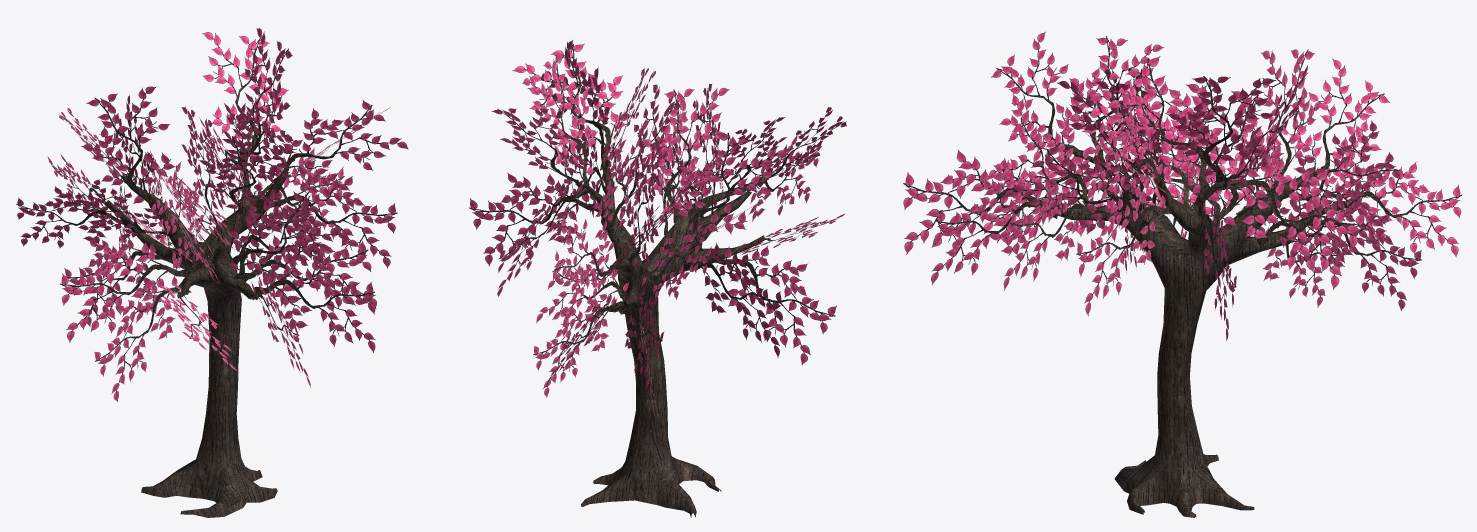
File: model_sakuraTree02.FBX
3 views of the same model, side by side, from view 1: azimuth 30°, elevation 25°; view 2: azimuth 150°, elevation 25°; view 3: azimuth 270°, elevation 25° (orthographic). The views are drawn at different scales.
Visible parts, largest first — view 1: Cylinder001, Plane027, Plane007, Plane014, Plane009, Plane015, Plane031, Plane019, Plane026, Plane013, Plane008, Plane021 (+16 smaller); view 2: Cylinder001, Plane028, Plane026, Plane029, Plane030, Plane018, Plane027, Plane017, Plane006, Plane019, Plane024, Plane001 (+17 smaller); view 3: Cylinder001, Plane010, Plane025, Plane012, Plane017, Plane020, Plane014, Plane002, Plane005, Plane031, Plane004, Plane015 (+18 smaller).
Part boxes in pixels (x1,y1,x2,y2): Cylinder001: (104,158,286,517); Plane027: (60,242,190,342); Plane007: (81,86,175,208); Plane014: (254,255,375,352); Plane009: (270,100,408,187); Plane015: (226,191,350,280); Plane031: (268,174,397,268); Plane019: (202,32,288,164); Plane026: (94,275,185,401); Plane013: (242,225,376,312); Plane008: (198,138,295,213); Plane021: (16,186,129,248); Cylinder001: (575,152,768,517); Plane028: (670,132,789,250); Plane026: (714,246,836,365); Plane029: (469,172,598,266); Plane030: (642,87,729,223); Plane018: (512,43,631,170); Plane027: (684,242,782,357); Plane017: (522,54,597,188); Plane006: (533,295,625,397); Plane019: (491,108,590,189); Plane024: (592,120,649,252); Plane001: (552,215,622,302); Cylinder001: (1030,142,1346,517); Plane010: (1217,157,1365,289); Plane025: (1088,56,1224,197); Plane012: (903,150,1042,254); Plane017: (1167,76,1276,182); Plane020: (1002,144,1148,234); Plane014: (931,176,1057,285); Plane002: (1289,58,1390,187); Plane005: (1333,161,1461,257); Plane031: (1076,185,1172,316); Plane004: (991,31,1084,157); Plane015: (987,110,1097,222).
Size of the model in its own units: 262 by 309 by 337.
